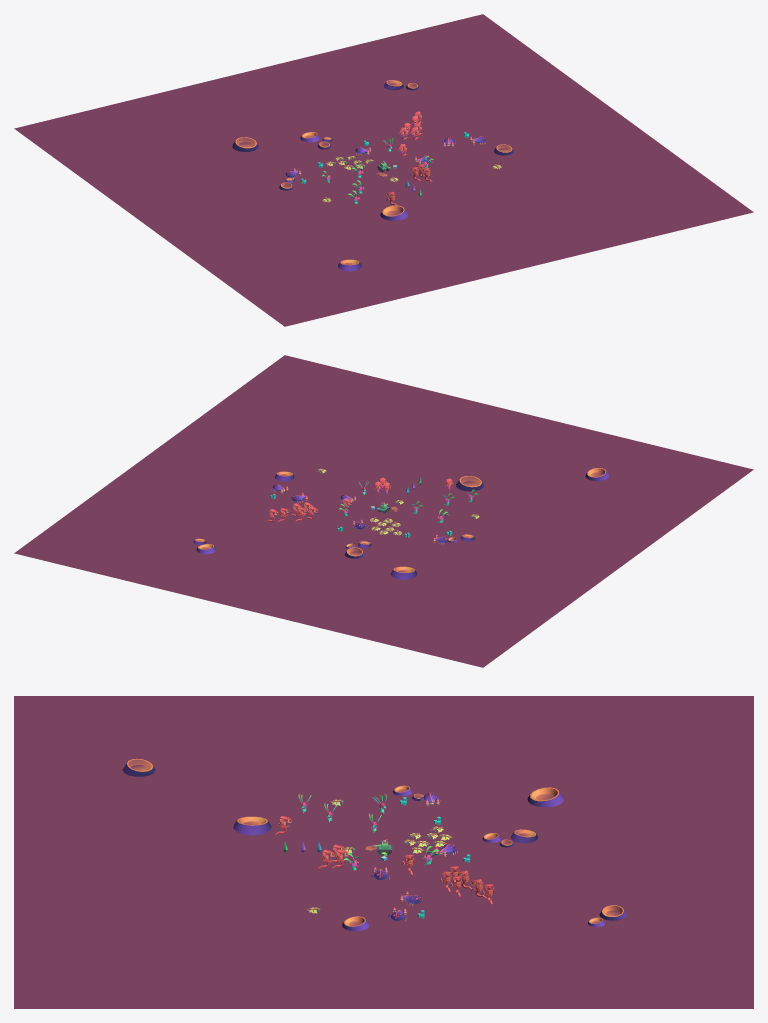
The model's file is Crystall_Yellow.fbx.
3 views of the same model, one above another, from view 1: azimuth 30°, elevation 25°; view 2: azimuth 150°, elevation 25°; view 3: azimuth 270°, elevation 25° (orthographic). The views are drawn at different scales.
Visible parts, largest first — view 1: Ground; view 2: Ground; view 3: Ground, Plane.004, Plane.008.
Boxes of the visible parts, box(x1,y1,x2,y2) form: Ground: box(14, 14, 753, 326); Ground: box(14, 355, 753, 667); Ground: box(14, 696, 753, 1008); Plane.004: box(233, 816, 271, 835); Plane.008: box(527, 787, 563, 807).
Size of the model in its own units: 20000 by 626 by 20000.
